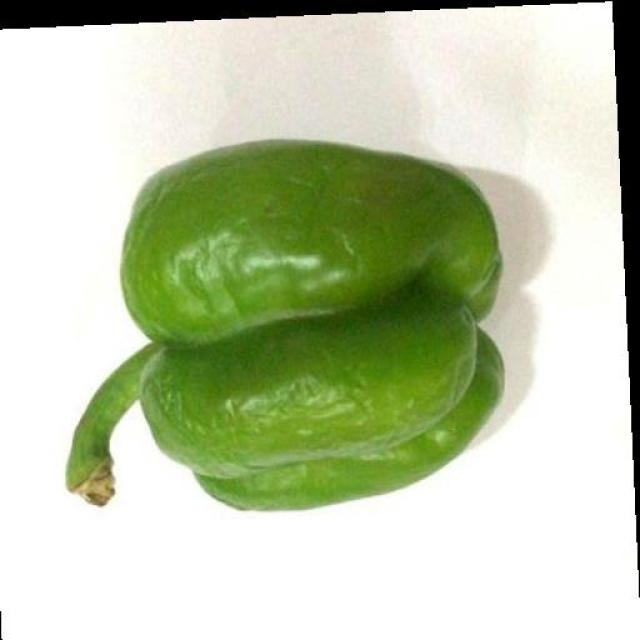Stale_Capsicum: (130, 165, 537, 477)
